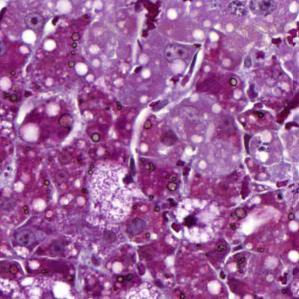ballooning: (164, 196, 226, 248)
